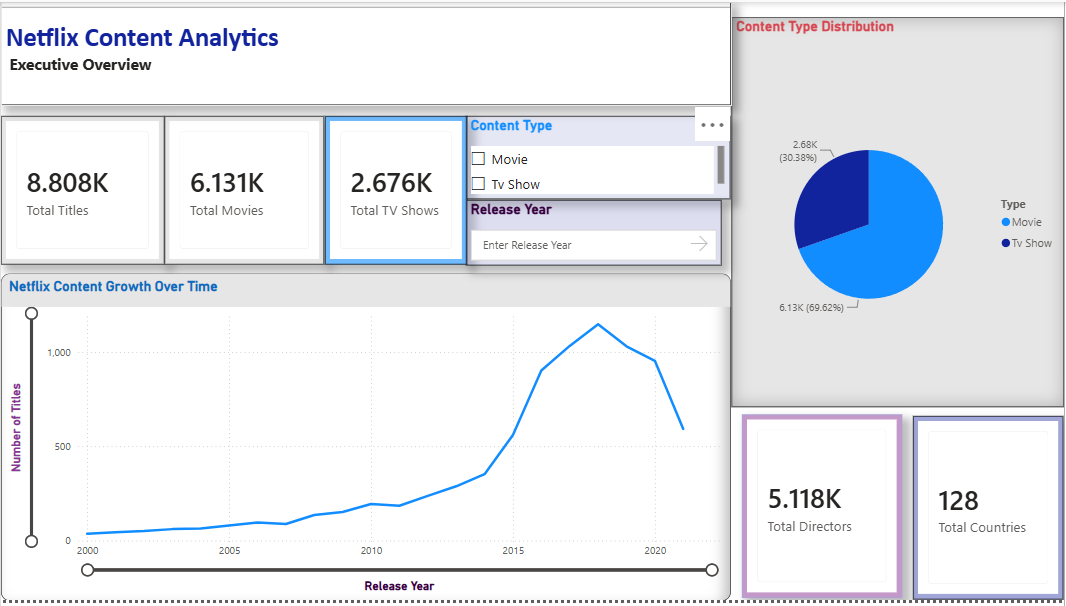

Layout of this report page (visuals, bound fields, positions):
{"tool":"powerbi","page":{"name":"Netflix Content Analytics Overview","canvas":[1280,720],"ordinal":0},"visuals":[{"type":"cardVisual","fields":{"Data":["Count(Netflix_titles_cleaned.Show Id)"]},"box":[0,137.8,196.8,178.7],"z":0},{"type":"cardVisual","fields":{"Data":["Netflix_titles_cleaned.Total Movies"]},"box":[196.8,137.8,192.3,178.7],"z":1000},{"type":"cardVisual","fields":{"Data":["Netflix_titles_cleaned.Total TV Shows"]},"box":[389.2,137.8,171.1,178.7],"z":2000},{"type":"cardVisual","fields":{"Data":["Netflix_titles_exploded.Unique Countries"]},"box":[1098,498.9,181.9,220.8],"z":3000},{"type":"cardVisual","fields":{"Data":["Netflix_titles_exploded.Total Directors"]},"box":[892,497,192.4,220.8],"z":4000},{"type":"lineChart","title":"Netflix Content Growth Over Time","fields":{"Category":["Netflix_titles_cleaned.Release Year"],"Y":["Count(Netflix_titles_cleaned.Show Id)"]},"box":[0,327.1,878.2,393.7],"z":5000},{"type":"pieChart","title":"Content Type Distribution","fields":{"Category":["Netflix_titles_cleaned.Type"],"Y":["CountNonNull(Netflix_titles_cleaned.Type)"]},"box":[878.2,18.2,401.3,469.4],"z":6000},{"type":"listSlicer","title":"Content Type","fields":{"Values":["Netflix_titles_cleaned.Type"]},"box":[560.3,137.8,318,99.9],"z":7000},{"type":"textSlicer","title":"Release Year","fields":{"Values":["Netflix_titles_cleaned.Release Year"]},"box":[560.3,237.7,307.4,78.7],"z":8000},{"type":"textbox","box":[0,0,878.2,124.2],"z":8001}]}

Visuals, with their boxes in screenshot pixels (x1, y1, x2, y2), scaled from the page's 1280x720 canvas onto the 1066x606 screenshot:
cardVisual - Count(Netflix_titles_cleaned.Show Id): box=[0, 116, 164, 266]
cardVisual - Netflix_titles_cleaned.Total Movies: box=[164, 116, 324, 266]
cardVisual - Netflix_titles_cleaned.Total TV Shows: box=[324, 116, 467, 266]
cardVisual - Netflix_titles_exploded.Unique Countries: box=[914, 420, 1065, 605]
cardVisual - Netflix_titles_exploded.Total Directors: box=[743, 418, 903, 604]
"Netflix Content Growth Over Time" lineChart: box=[0, 275, 731, 605]
"Content Type Distribution" pieChart: box=[731, 15, 1065, 410]
"Content Type" listSlicer: box=[467, 116, 731, 200]
"Release Year" textSlicer: box=[467, 200, 723, 266]
textbox: box=[0, 0, 731, 105]
